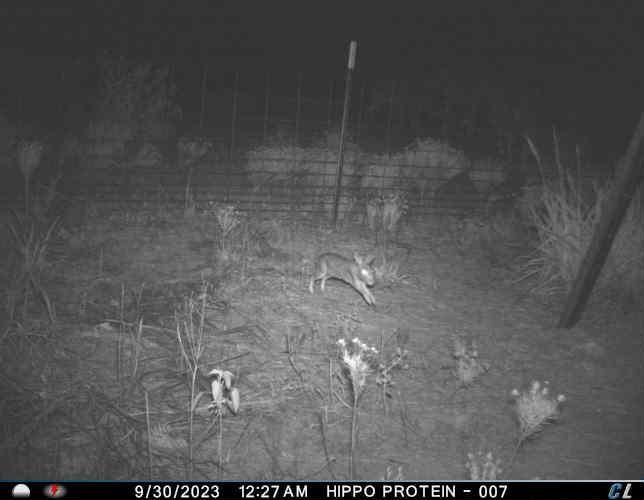Rabbit: (307, 250, 381, 309)
